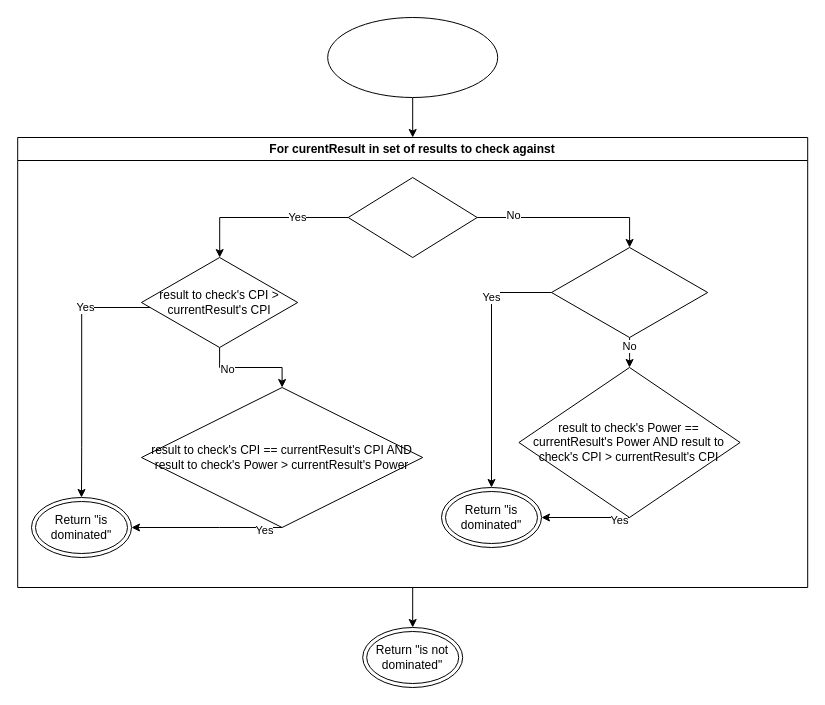
Image size: 825x705. Some labels were removed from this diagram. Here are the shapes that lost their labels. From the top down, the centre of each, then its label:
At point (412, 57): "Start with params: result to check, set of results to check against".
At point (412, 217): "preferredObjective == CPI".
At point (629, 292): "result to check's Power > currentResult's Power".
